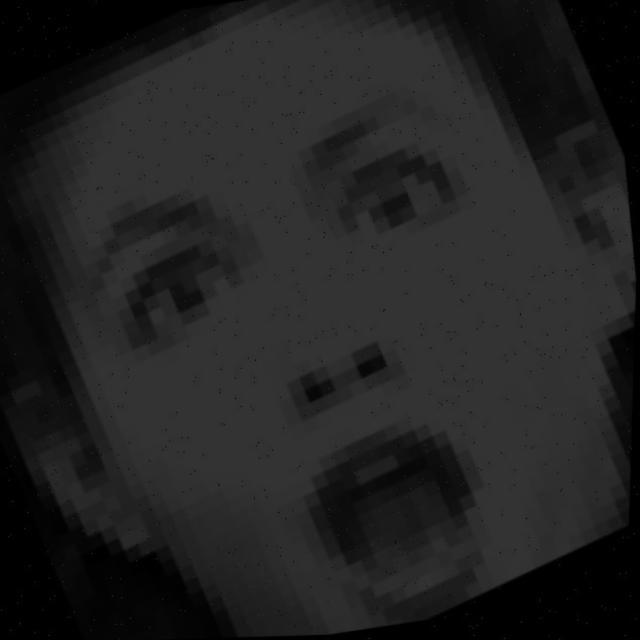Surprised: (55, 93, 581, 624)
